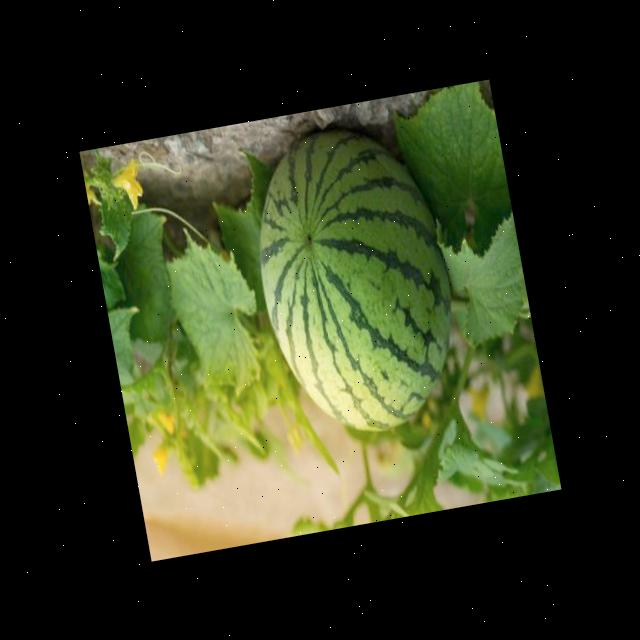watermelon: (238, 116, 472, 448)
